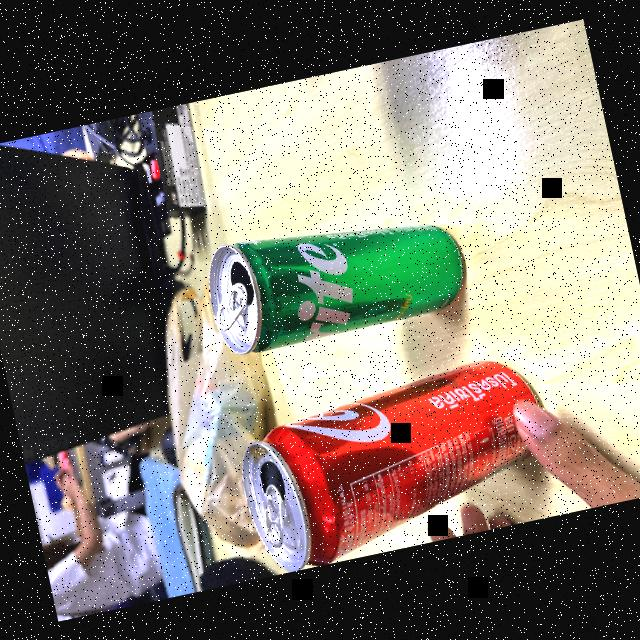can: (211, 344, 569, 580), (193, 198, 471, 371)
